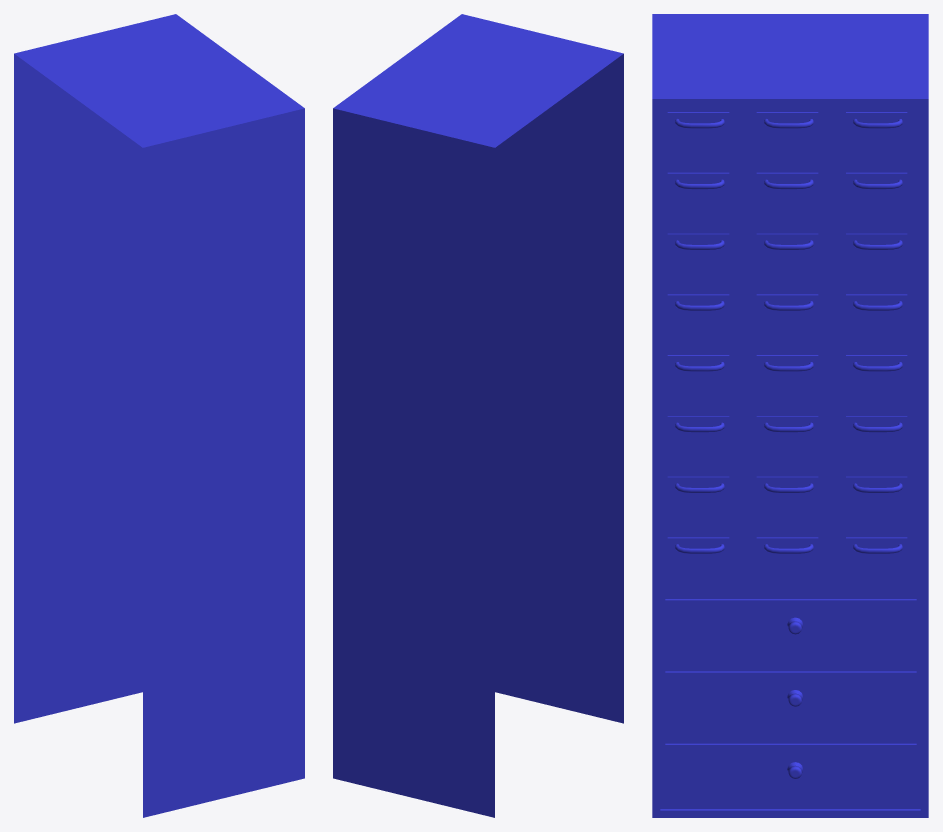
File: G_Drawer_03.fbx
3 renders of one model, left to right at view 1: azimuth 30°, elevation 25°; view 2: azimuth 150°, elevation 25°; view 3: azimuth 270°, elevation 25°, orthographic. The views are drawn at different scales.
Parts seen in each view (by area): view 1: drawer.002; view 2: drawer.002; view 3: drawer.002.
Boxes of the visible parts, x1=… form: drawer.002: x1=14, y1=14, x2=304, y2=817; drawer.002: x1=333, y1=14, x2=623, y2=817; drawer.002: x1=652, y1=14, x2=928, y2=817.
Size of the model in its own units: 593 by 2219 by 774.
